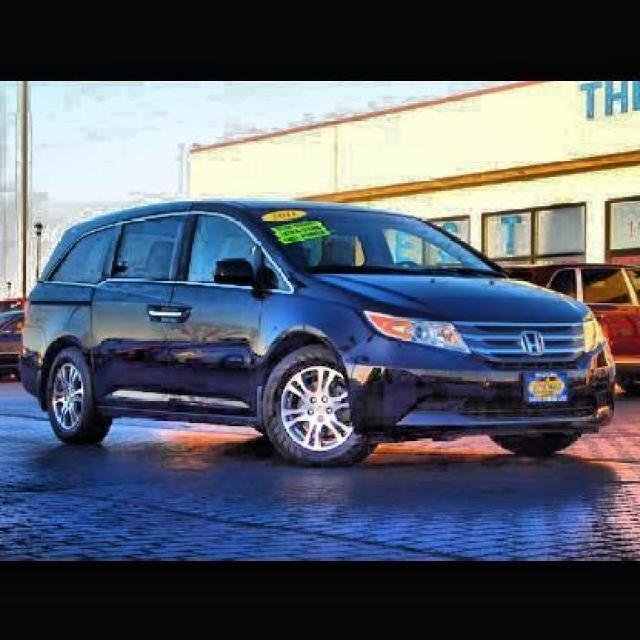black: (23, 203, 616, 447)
